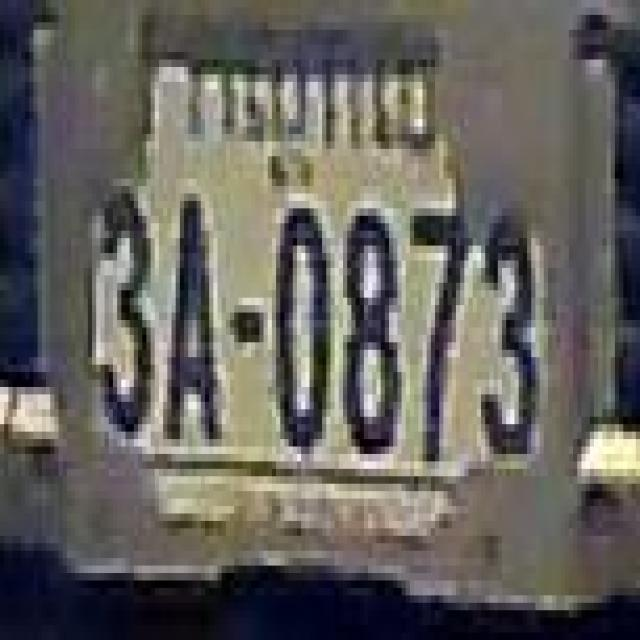Kandal: (180, 22, 437, 182)
